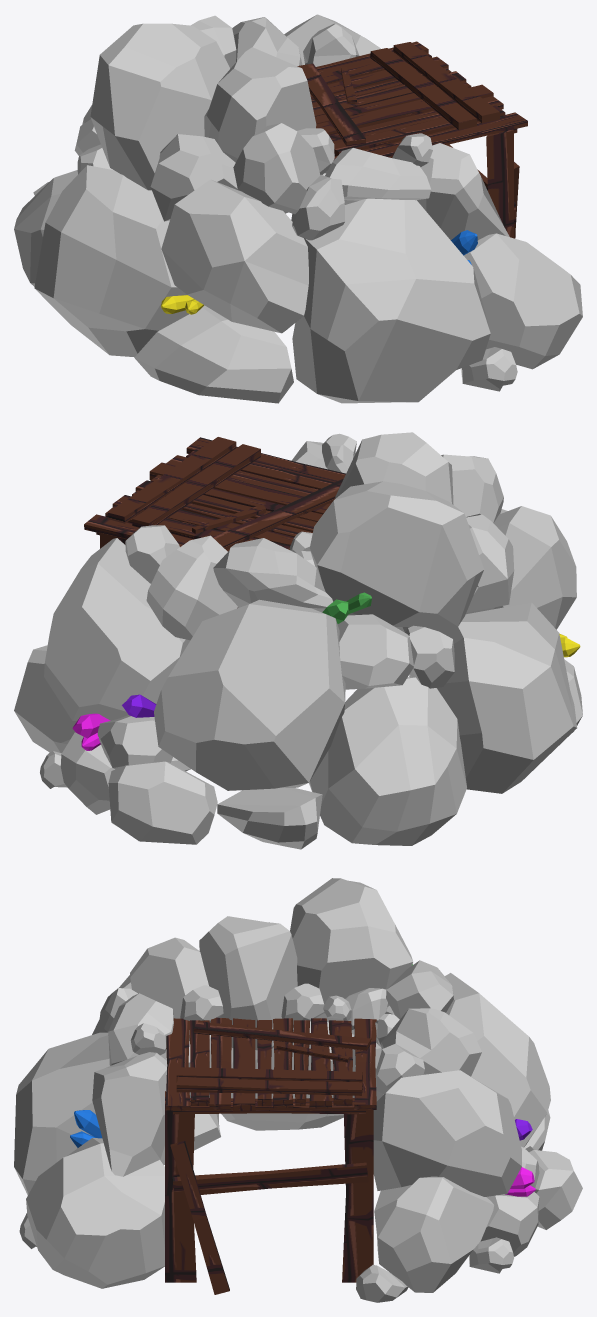
Rendered from cave (1).fbx.
The picture shows the model from 3 angles, top to bottom: view 1: azimuth 30°, elevation 25°; view 2: azimuth 150°, elevation 25°; view 3: azimuth 270°, elevation 25°; orthographic projection. The views are drawn at different scales.
Visible parts, largest first — view 1: Cube, Madeiras, Cristais; view 2: Cube, Madeiras, Cristais; view 3: Cube, Madeiras, Cristais.
Part boxes in pixels (left/top/right/bottom): Cube: left=14, top=14, right=582, bottom=403; Madeiras: left=297, top=41, right=527, bottom=238; Cristais: left=161, top=230, right=477, bottom=314; Cube: left=14, top=432, right=582, bottom=849; Madeiras: left=84, top=437, right=345, bottom=608; Cristais: left=72, top=592, right=580, bottom=750; Cube: left=14, top=878, right=582, bottom=1302; Madeiras: left=165, top=1017, right=376, bottom=1294; Cristais: left=70, top=964, right=535, bottom=1196.
Size of the model in its own units: 933 by 580 by 1060.
